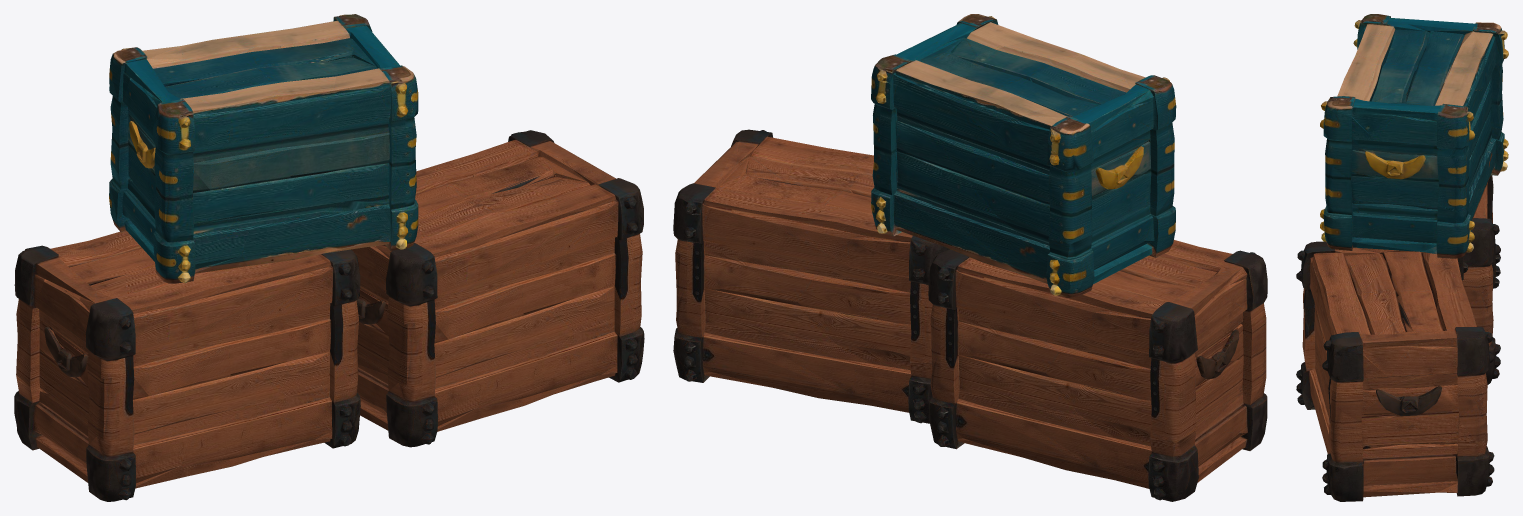
File: crate-stack.glb
3 views of the same model, side by side, from view 1: azimuth 30°, elevation 25°; view 2: azimuth 150°, elevation 25°; view 3: azimuth 270°, elevation 25° (orthographic). The views are drawn at different scales.
Bounding box in the file's own units: 1.66 × 1.05 × 0.6696.
Materials: 2 (2 with a texture image).
